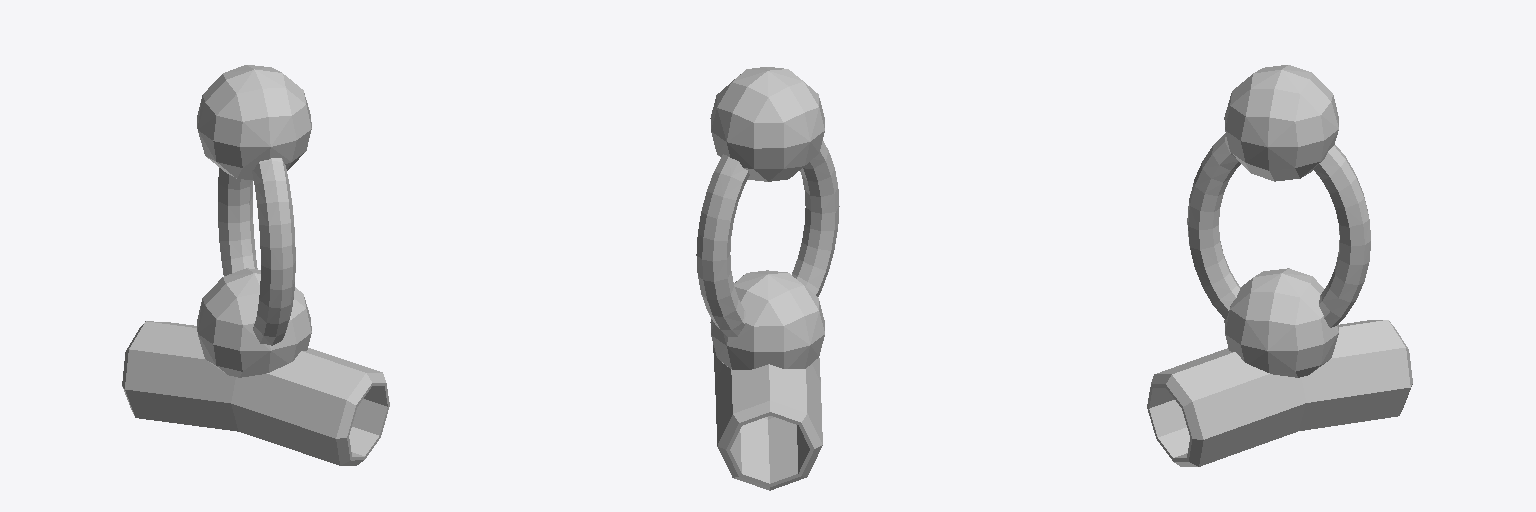
Rendered from stage_hook.obj.
3 renders of one model, left to right at view 1: azimuth 30°, elevation 25°; view 2: azimuth 150°, elevation 25°; view 3: azimuth 270°, elevation 25°, orthographic.
Parts seen in each view (by area): view 1: polySurface112_Mesh, pCube265_Mesh, polySurface111_Mesh, pCube266_Mesh; view 2: polySurface112_Mesh, polySurface111_Mesh, pCube265_Mesh, pCube266_Mesh; view 3: polySurface112_Mesh, polySurface111_Mesh, pCube265_Mesh, pCube266_Mesh.
Boxes of the visible parts, <box> form: polySurface112_Mesh: <box>122,321,389,465</box>; pCube265_Mesh: <box>197,65,311,180</box>; polySurface111_Mesh: <box>218,158,295,345</box>; pCube266_Mesh: <box>197,268,311,377</box>; polySurface112_Mesh: <box>713,345,822,490</box>; polySurface111_Mesh: <box>696,141,839,336</box>; pCube265_Mesh: <box>710,67,824,181</box>; pCube266_Mesh: <box>710,270,824,369</box>; polySurface112_Mesh: <box>1147,320,1412,466</box>; polySurface111_Mesh: <box>1187,133,1370,327</box>; pCube265_Mesh: <box>1224,65,1338,181</box>; pCube266_Mesh: <box>1224,268,1338,377</box>.
Size of the model in its own units: 0.2186 by 0.4174 by 0.2705.